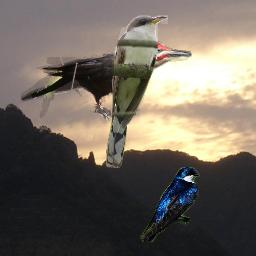Cuckoo: (106, 15, 168, 168)
Swallow: (140, 167, 200, 243)
Woodpecker: (21, 40, 192, 123)
